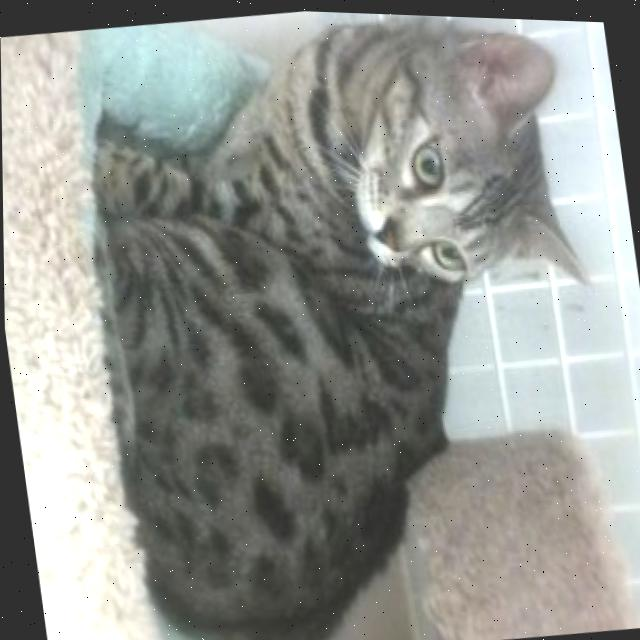Bengal: (33, 1, 640, 640)
